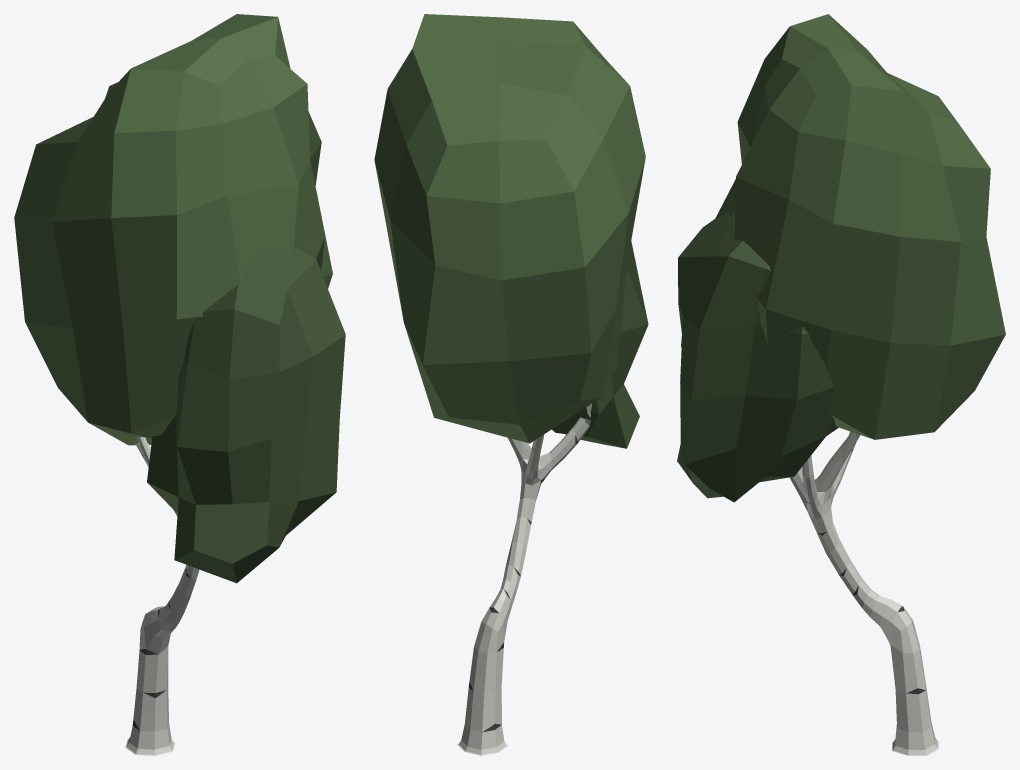
Rendered from birch_tree_2.glb.
3 renders of one model, left to right at view 1: azimuth 30°, elevation 25°; view 2: azimuth 150°, elevation 25°; view 3: azimuth 270°, elevation 25°, orthographic. The views are drawn at different scales.
Parts seen in each view (by area): view 1: birch_tree_2; view 2: birch_tree_2; view 3: birch_tree_2.
Part boxes in pixels (left/top/right/bottom): birch_tree_2: left=14, top=14, right=345, bottom=755; birch_tree_2: left=374, top=14, right=648, bottom=755; birch_tree_2: left=677, top=14, right=1005, bottom=755.
Size of the model in its own units: 1.47 by 4.03 by 1.69.
1 material, 1 textured.
